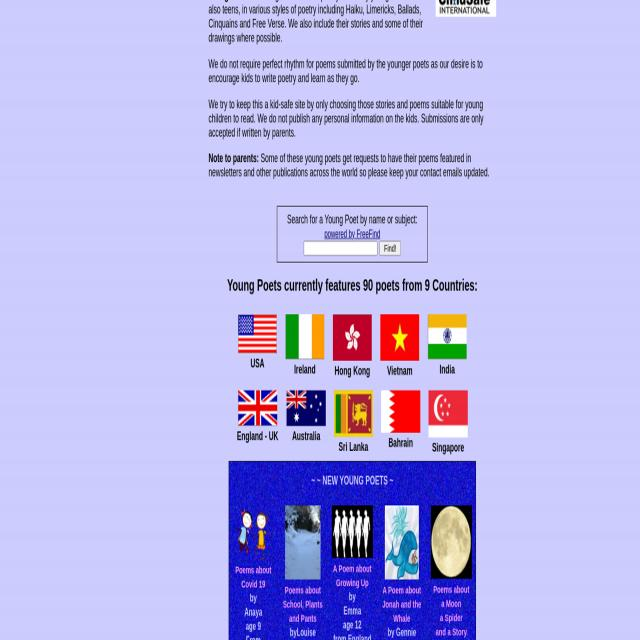button: (431, 506, 472, 579), (284, 506, 320, 580), (385, 506, 419, 580), (332, 506, 372, 558), (428, 390, 468, 438), (332, 314, 372, 361), (380, 314, 419, 361), (236, 506, 270, 559), (285, 314, 324, 360), (428, 314, 467, 360), (334, 390, 372, 437), (380, 390, 420, 433), (238, 314, 276, 354), (286, 390, 326, 426), (238, 390, 276, 426), (435, 0, 496, 17), (379, 241, 401, 256)
field: (303, 241, 377, 256)
